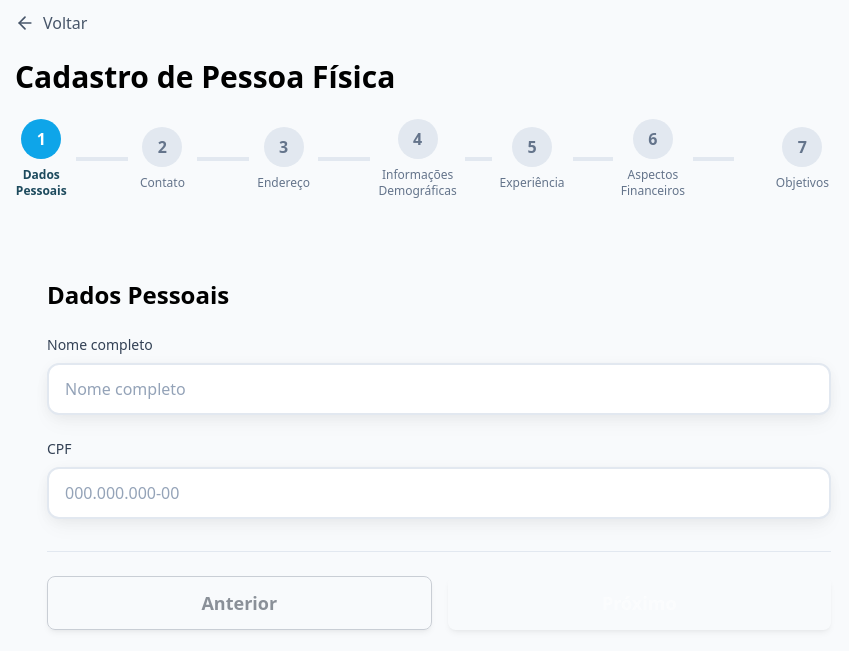
Test: PessoaFisicaPage › Form Navigation › should navigate to previous step when clicking Anterior
This screenshot has width=849, height=651.
// Fill required fields and go to second step
Type "Test User" into the field labelled "Nome completo" at x=439, y=389, box [47,363,831,415]
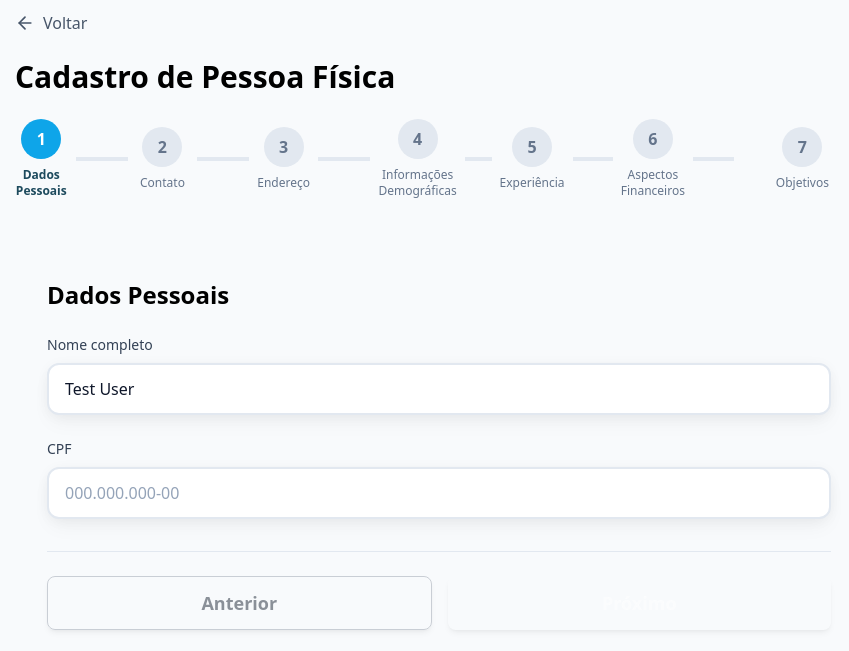
Type "12345678901" into the field labelled "CPF" at x=439, y=493, box [47,467,831,519]
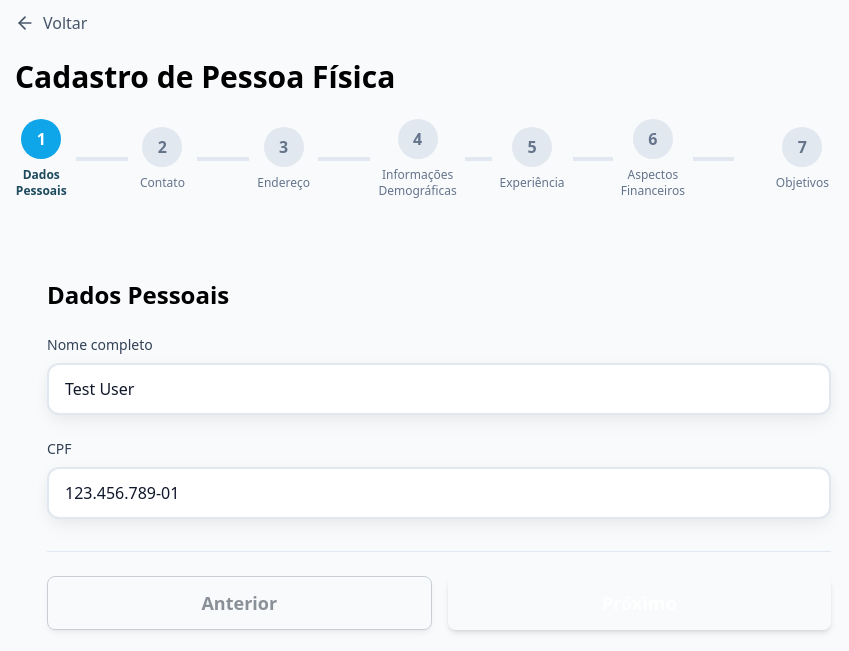
Click the button "Próximo" at x=639, y=603, box [448,576,831,630]
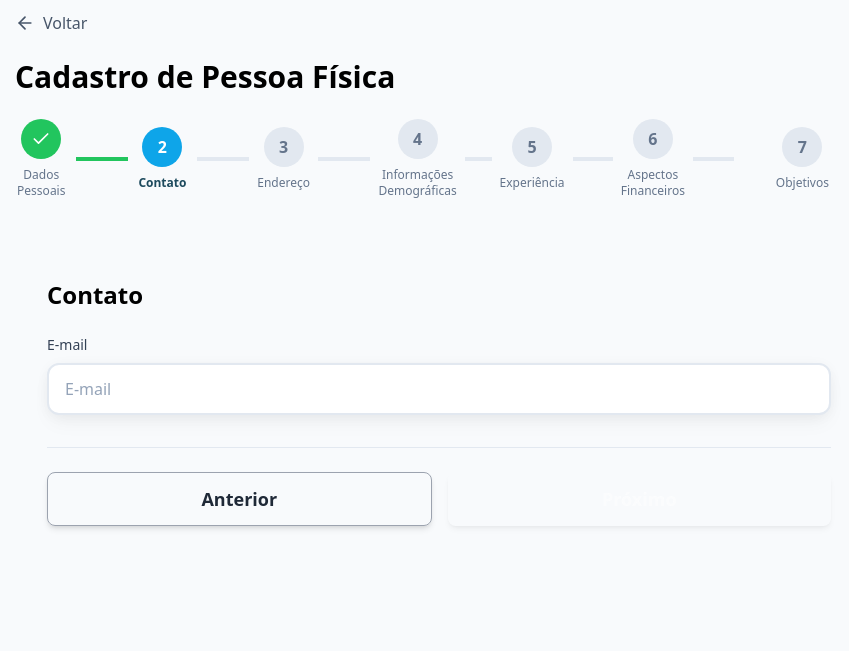
Expected: the field labelled "E-mail" is shown, [47,363,831,415]
// Go back to first step
Click the button "Anterior" at x=239, y=499, box [47,472,432,526]
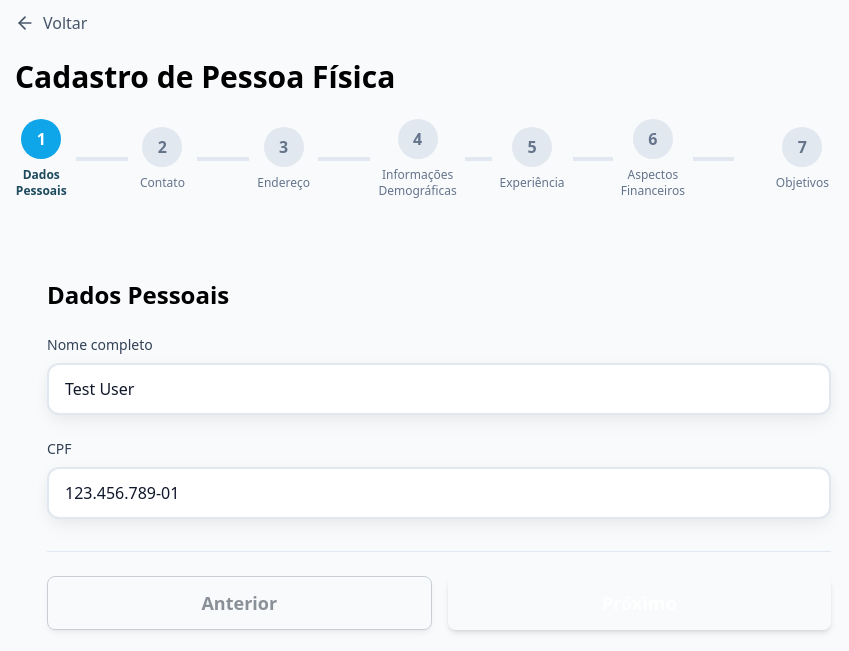
Expected: the field labelled "Nome completo" is shown, [47,363,831,415]
